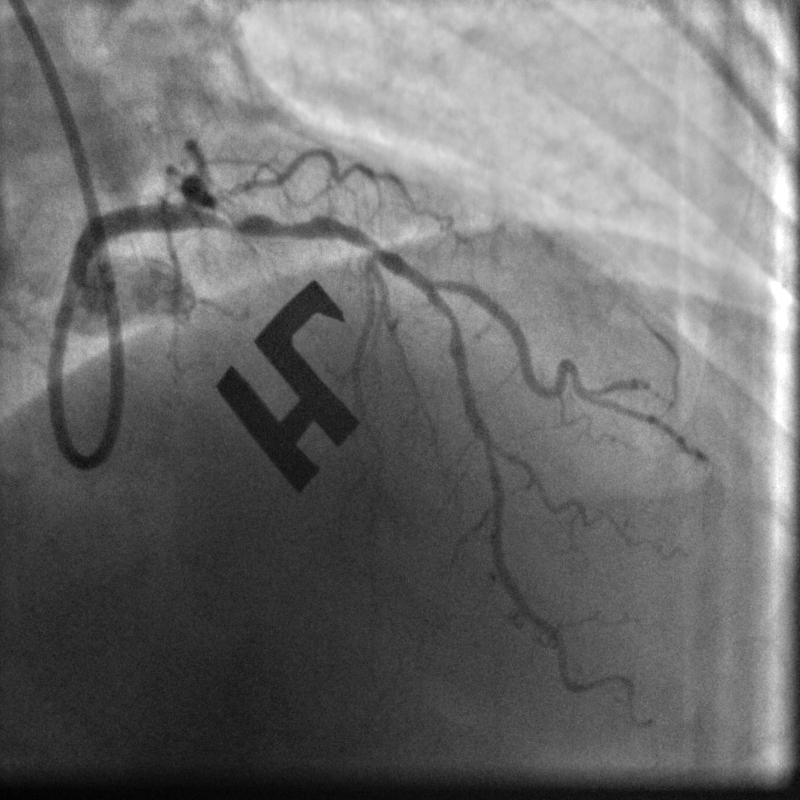Stenosis: (213, 200, 326, 237)
